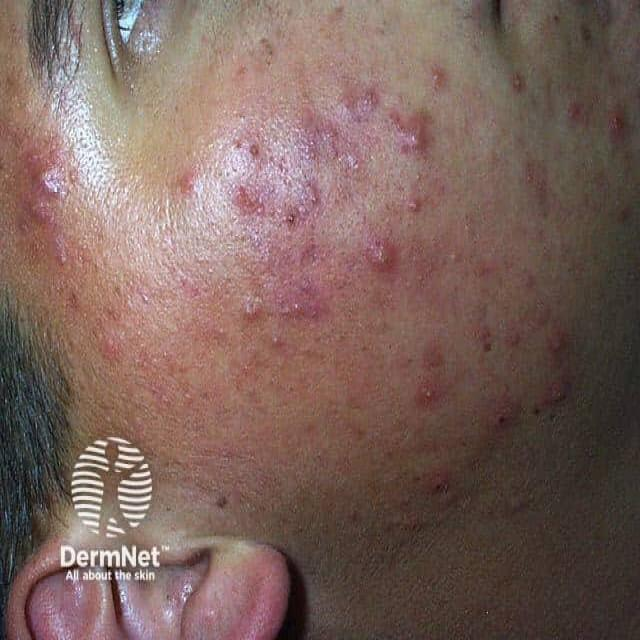Acne: (199, 43, 482, 397), (15, 115, 112, 339)
